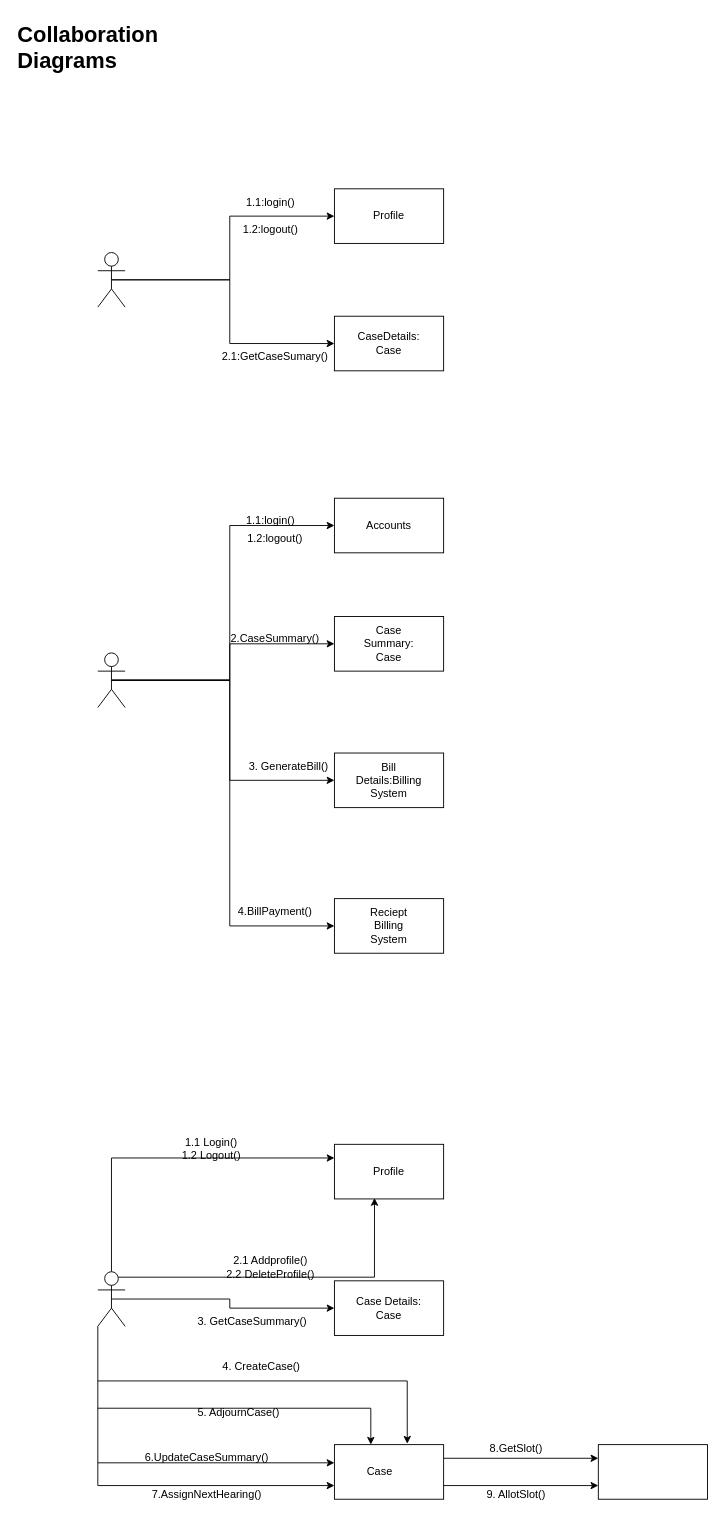
This 723x1523 diagram has some shape labels left out. Each missing label, with the centre of its shape:
Judge: the point at 111,279
Lawyer: the point at 111,680
Registrar: the point at 111,1298
Slot: the point at 652,1471
